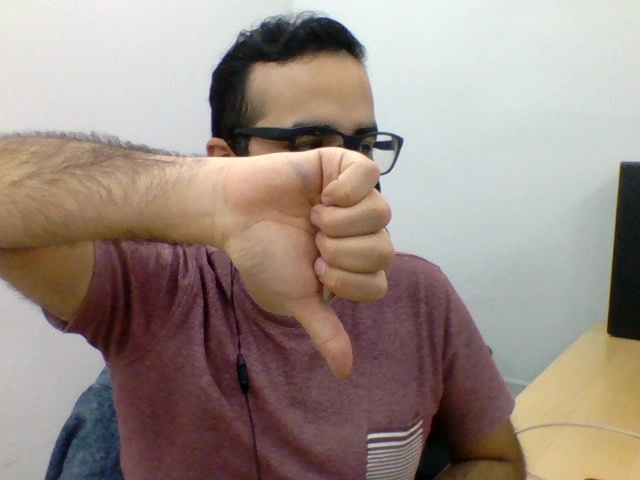ThumbsDown: (216, 146, 396, 380)
